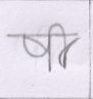i_matra: (51, 22, 72, 68)
